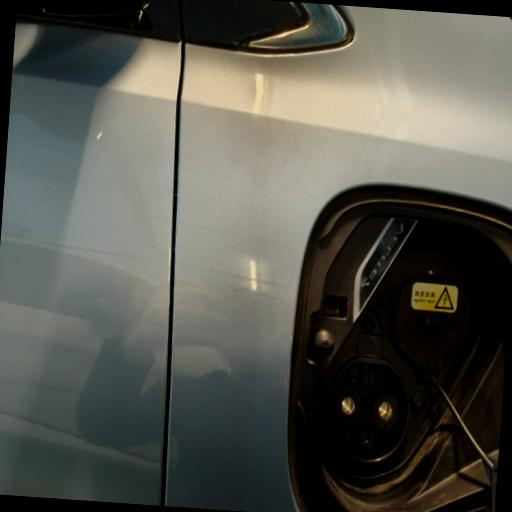DC_hole: (370, 392, 402, 431), (334, 388, 364, 426)
PE: (356, 428, 374, 451)
charging_port: (324, 352, 416, 468)
